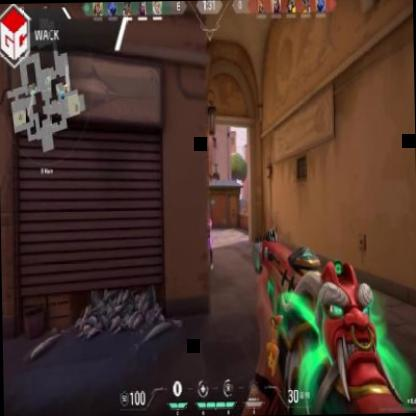enemy: (197, 202, 214, 274)
enemy_head: (201, 206, 210, 220)
